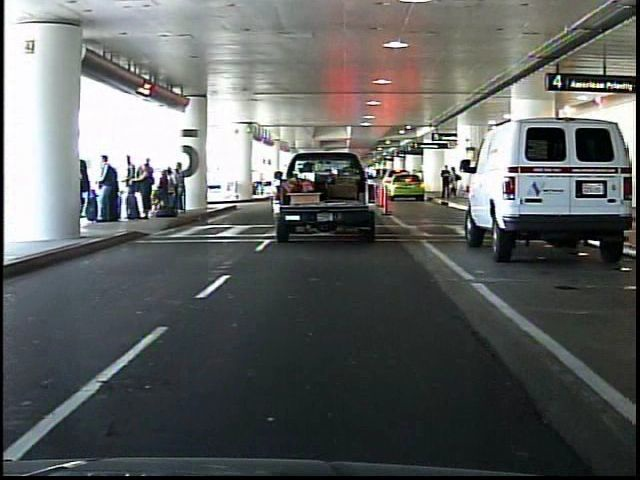person: (440, 164, 453, 201), (451, 165, 462, 203)
